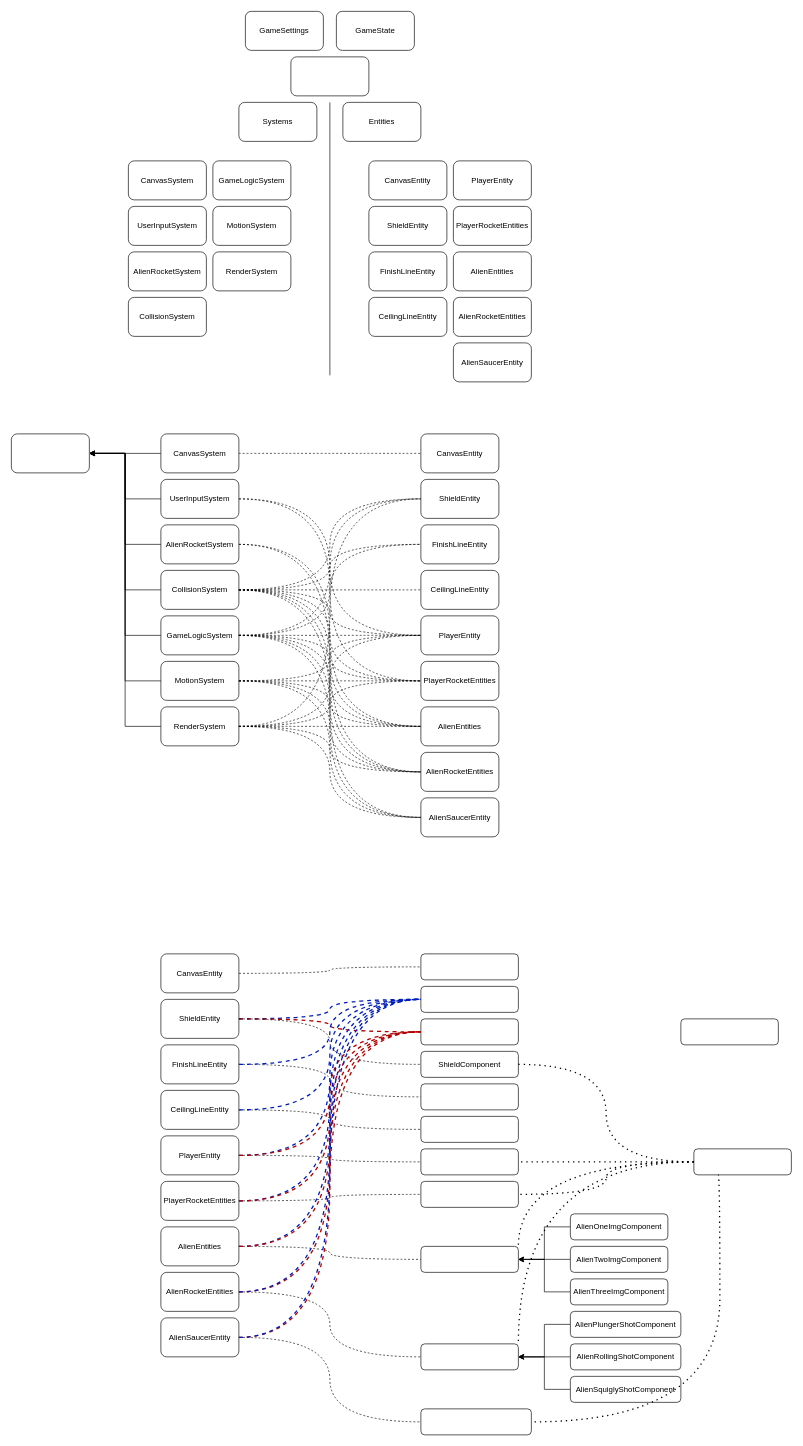
This 803x1446 diagram has some shape labels left out. The shapes that lost their labels are listed below. From the top down, each one's centre as x and y in pixels, then its label:
At (x=329, y=76): "Game".
At (x=50, y=453): "System".
At (x=469, y=966): "CanvasComponent".
At (x=469, y=999): "ExtentComponent".
At (x=469, y=1031): "PositionComponent".
At (x=729, y=1031): "Component".
At (x=469, y=1096): "FinishLineComponent".
At (x=469, y=1129): "CeilingLineComponent".
At (x=469, y=1161): "PlayerComponent".
At (x=742, y=1161): "ImageComponent".
At (x=469, y=1194): "PlayerRocketComponent".
At (x=469, y=1259): "AlienImgComponent".
At (x=469, y=1356): "AlienRocketComponent".
At (x=475, y=1421): "AlienSaucerImgComponent".
